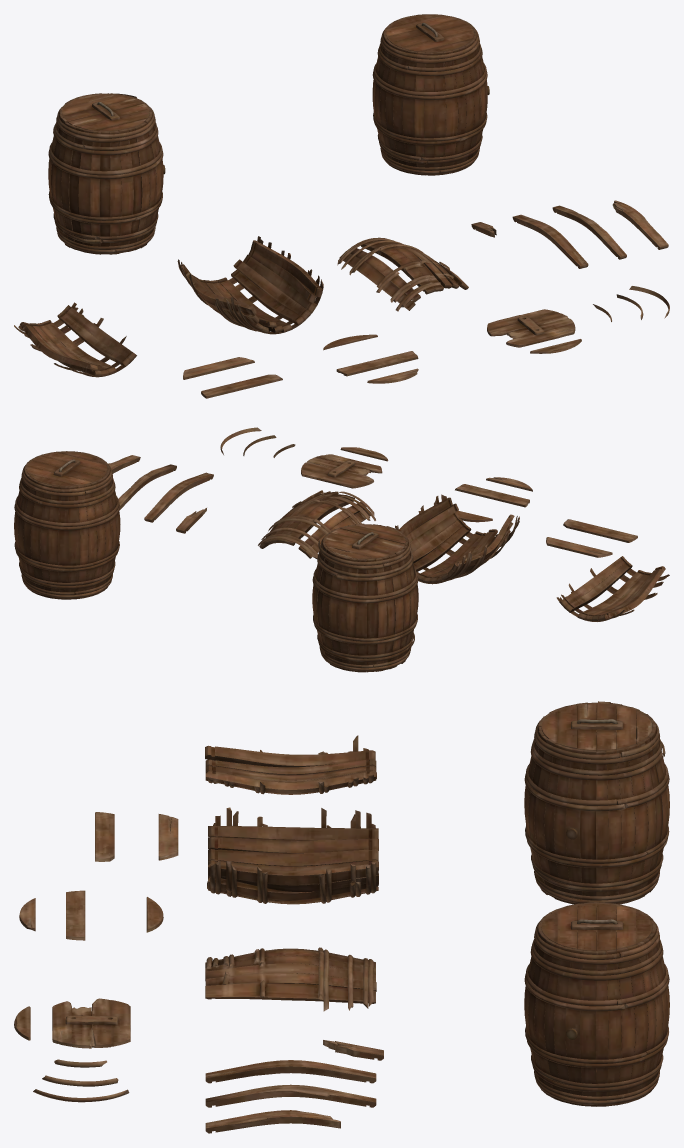
File: wooden_barrels_01.glb
3 renders of one model, top to bottom at view 1: azimuth 30°, elevation 25°; view 2: azimuth 150°, elevation 25°; view 3: azimuth 270°, elevation 25°, orthographic. The views are drawn at different scales.
Parts seen in each view (by area): view 1: wooden_barrels_01_piece01, wooden_barrels_01_barrel02, wooden_barrels_01_barrel01; view 2: wooden_barrels_01_piece01, wooden_barrels_01_barrel02, wooden_barrels_01_barrel01; view 3: wooden_barrels_01_piece01, wooden_barrels_01_barrel01, wooden_barrels_01_barrel02.
Boxes of the visible parts, x1=… form: wooden_barrels_01_piece01: x1=14, y1=200, x2=669, y2=398; wooden_barrels_01_barrel02: x1=48, y1=93, x2=165, y2=254; wooden_barrels_01_barrel01: x1=372, y1=14, x2=489, y2=175; wooden_barrels_01_piece01: x1=108, y1=427, x2=669, y2=621; wooden_barrels_01_barrel02: x1=312, y1=523, x2=418, y2=672; wooden_barrels_01_barrel01: x1=14, y1=451, x2=120, y2=599; wooden_barrels_01_piece01: x1=14, y1=735, x2=383, y2=1133; wooden_barrels_01_barrel01: x1=524, y1=902, x2=669, y2=1106; wooden_barrels_01_barrel02: x1=524, y1=701, x2=669, y2=904.
Size of the model in its own units: 4.44 by 0.9568 by 3.34.
3 materials, 3 textured.
